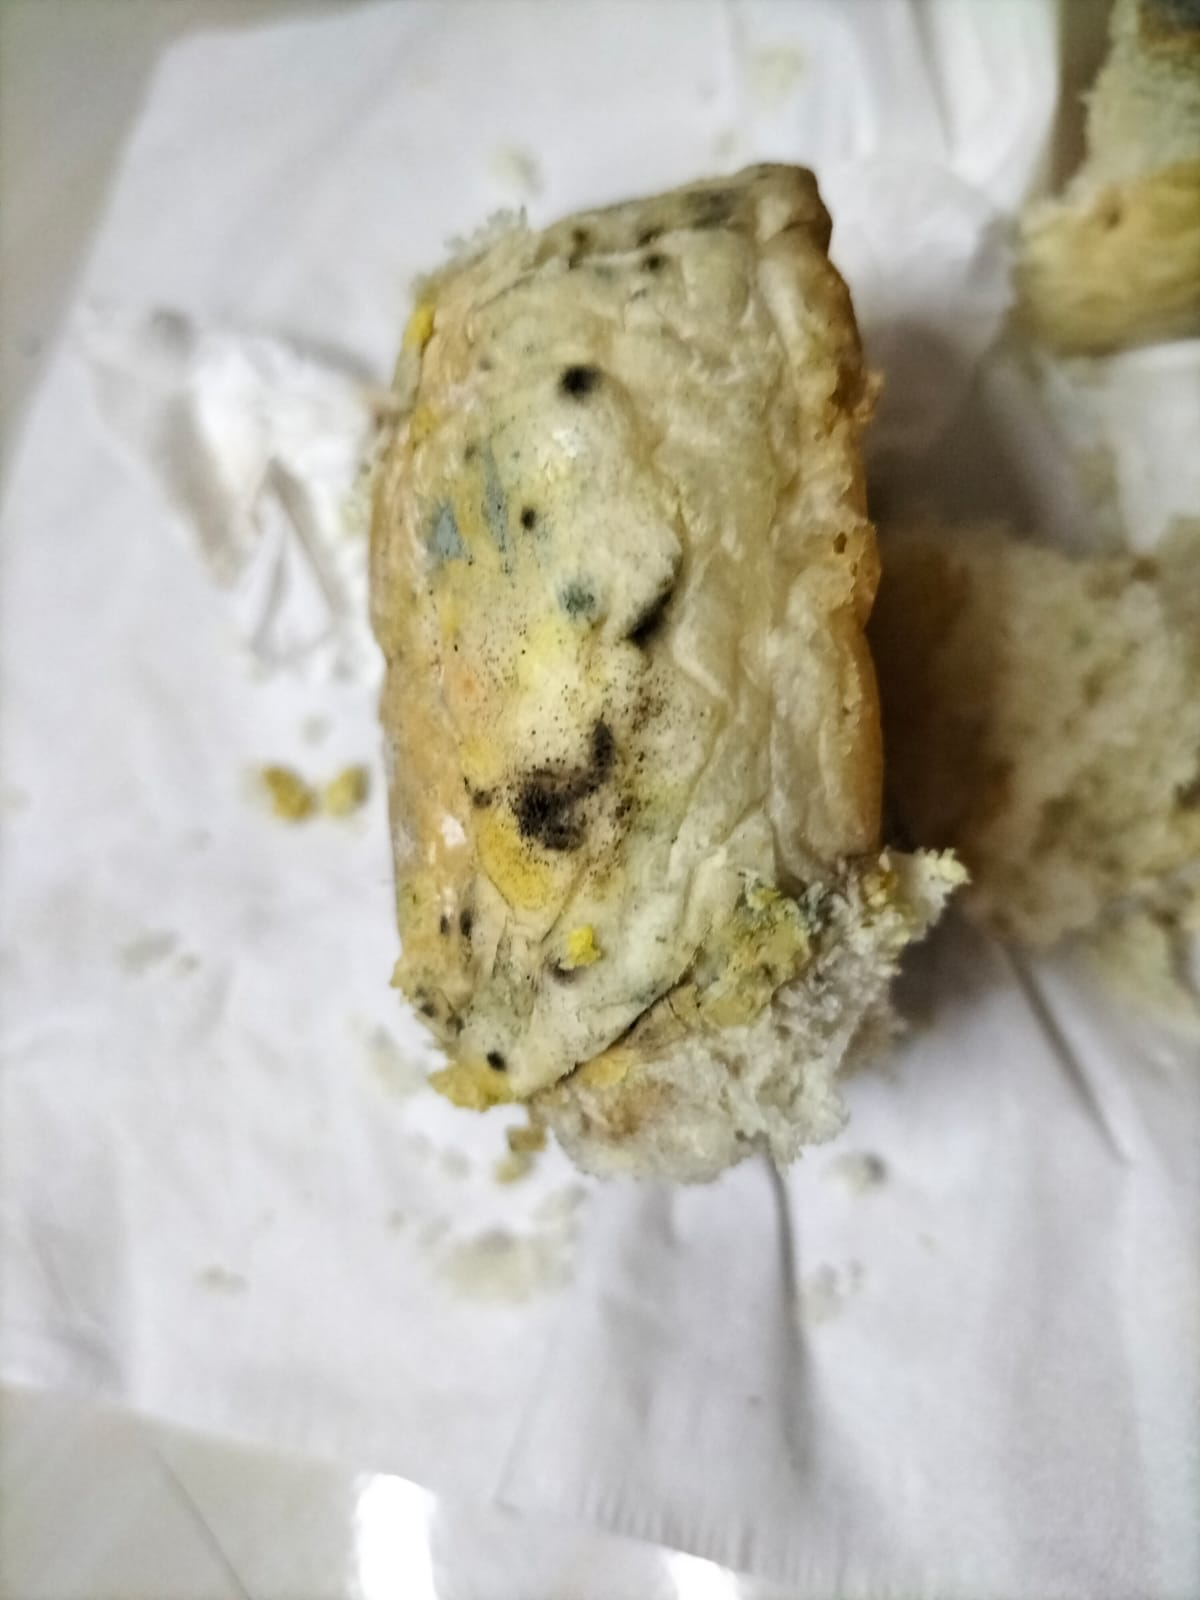mold_bread: (460, 674, 668, 898), (422, 433, 555, 595), (412, 911, 528, 1089), (693, 888, 812, 1010), (686, 184, 756, 241), (558, 574, 616, 636), (547, 358, 615, 406), (632, 215, 671, 290), (563, 220, 597, 287)
